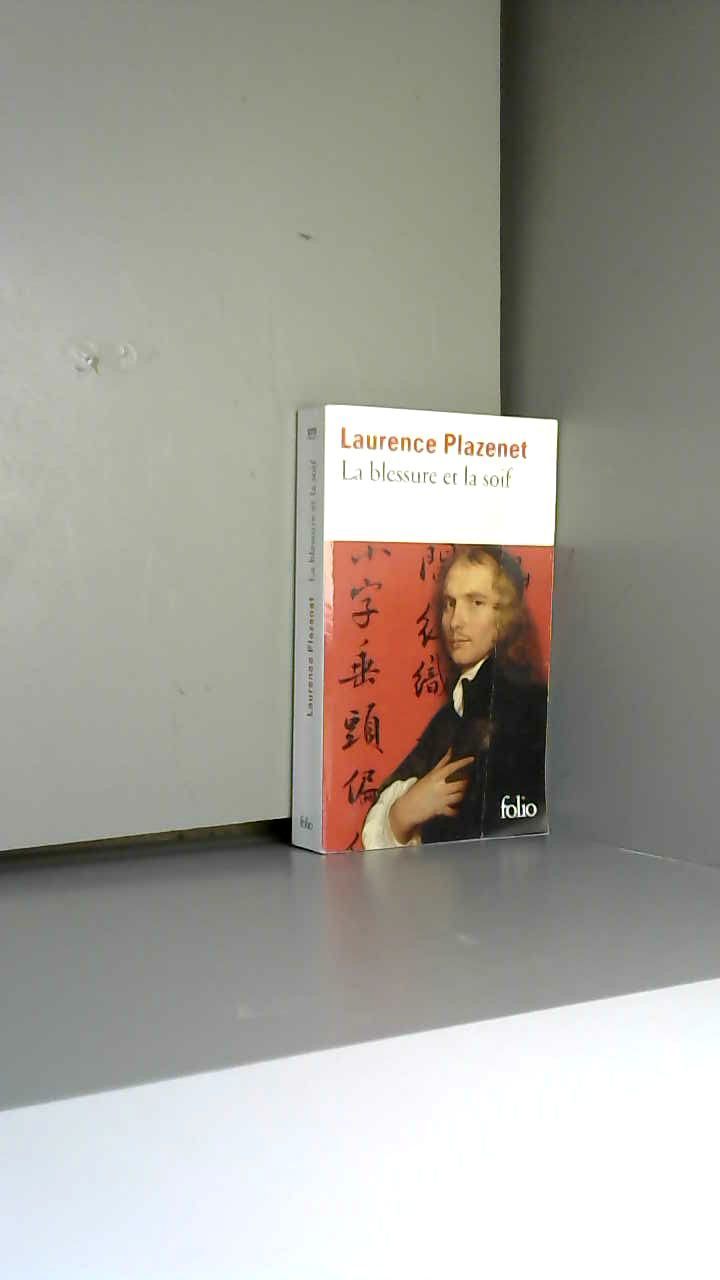book: (256, 374, 591, 895)
